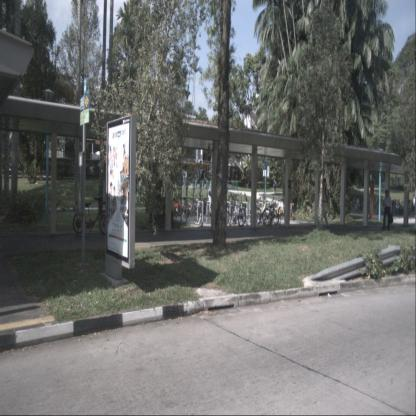human-pedestrian-adult: (318, 178, 330, 230), (382, 190, 393, 231), (272, 178, 278, 194), (412, 194, 415, 217)
vehicle-bicycle: (72, 196, 109, 236)
